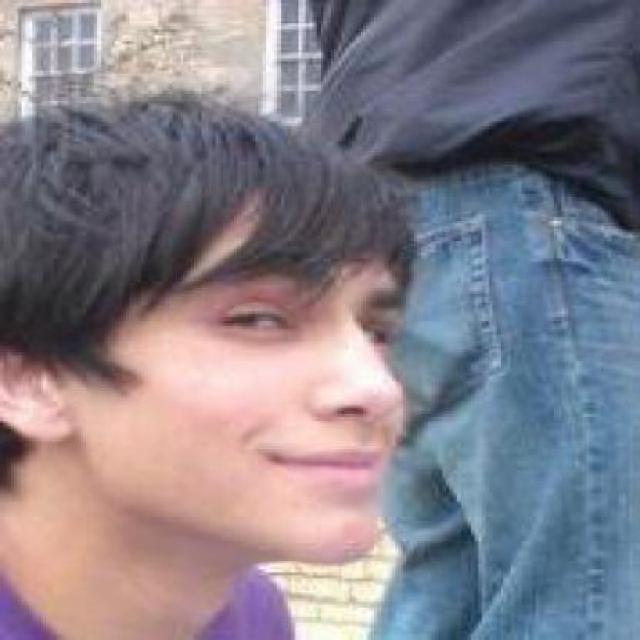closed-mouth: (256, 444, 378, 484)
